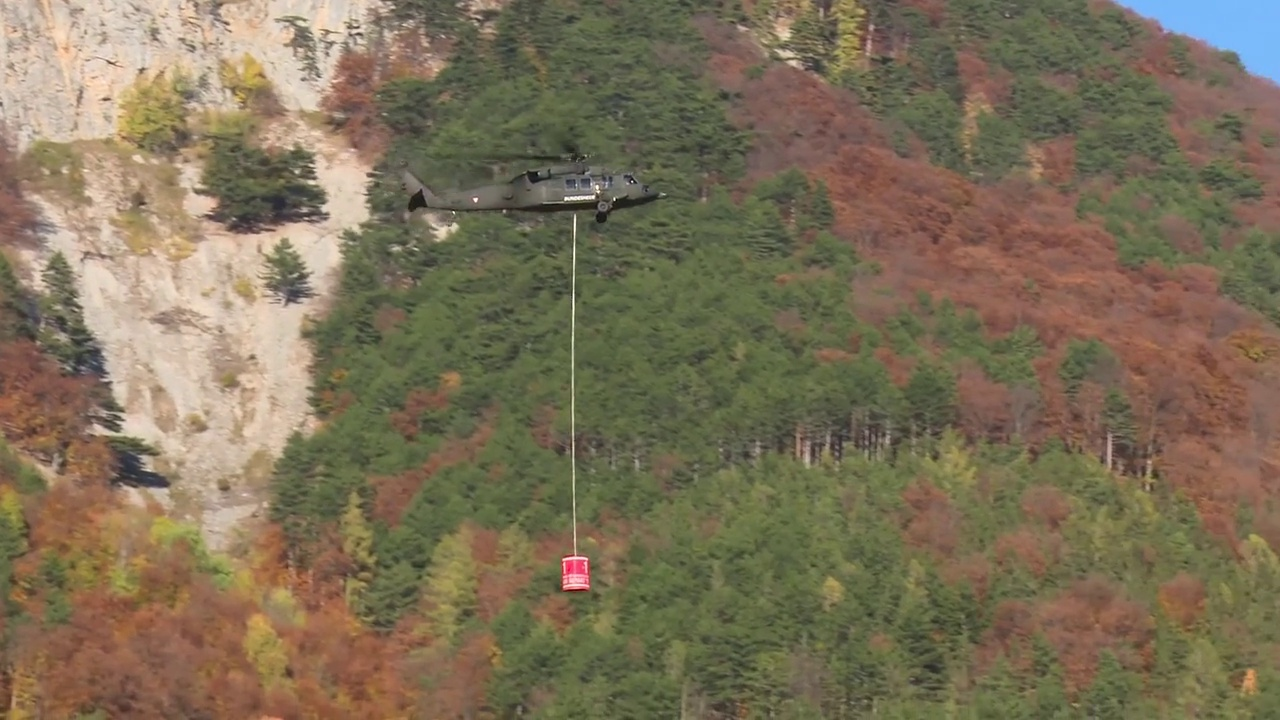heli: (399, 145, 668, 223)
